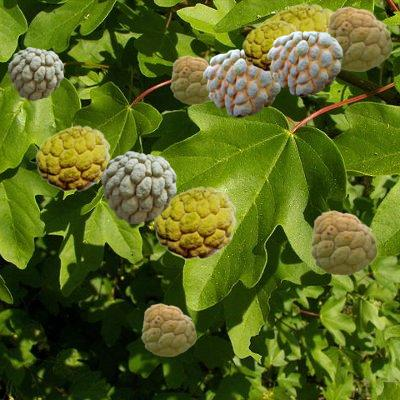atis: (153, 186, 235, 258), (101, 151, 175, 222), (203, 49, 280, 116), (35, 125, 109, 190), (267, 31, 341, 95), (310, 210, 376, 274), (327, 6, 391, 70), (8, 47, 62, 99), (141, 303, 195, 355), (242, 20, 297, 70), (260, 3, 333, 31), (170, 55, 209, 103)
